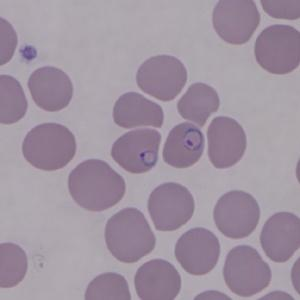Infected: (110, 128, 161, 174), (163, 122, 205, 168)
Uninfected: (68, 160, 125, 212), (103, 208, 156, 262), (22, 122, 78, 171), (223, 246, 271, 298), (136, 55, 187, 102), (147, 182, 195, 231), (254, 24, 300, 74), (214, 189, 260, 239), (175, 227, 220, 276), (211, 0, 261, 44), (206, 116, 247, 169), (27, 66, 74, 112), (260, 211, 300, 262), (134, 260, 182, 300), (177, 83, 219, 128), (112, 92, 163, 129), (83, 271, 131, 300), (0, 76, 28, 124), (0, 242, 28, 288)
